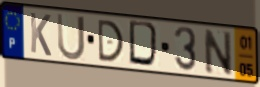3: (173, 25, 198, 73)
D: (128, 19, 162, 71), (96, 18, 126, 63)
K: (28, 11, 53, 59)
N: (202, 27, 234, 77)
U: (55, 12, 87, 62)
